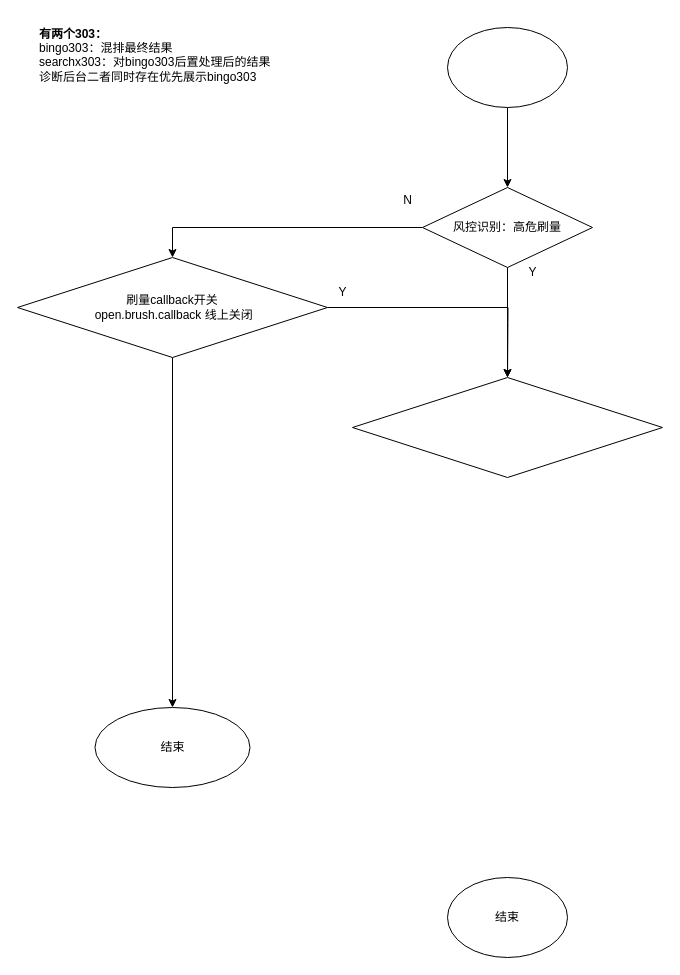
Some shapes in this 680 by 975 pixel diagram are drawn without their labels. The shapes that lost their labels are listed below. From the top down, each one's centre as x and y in pixels, then its label:
the point at 507,67: searchx 303
the point at 507,427: 自然算法 mlops callback开关 mlops.callback.switch 线上开启
